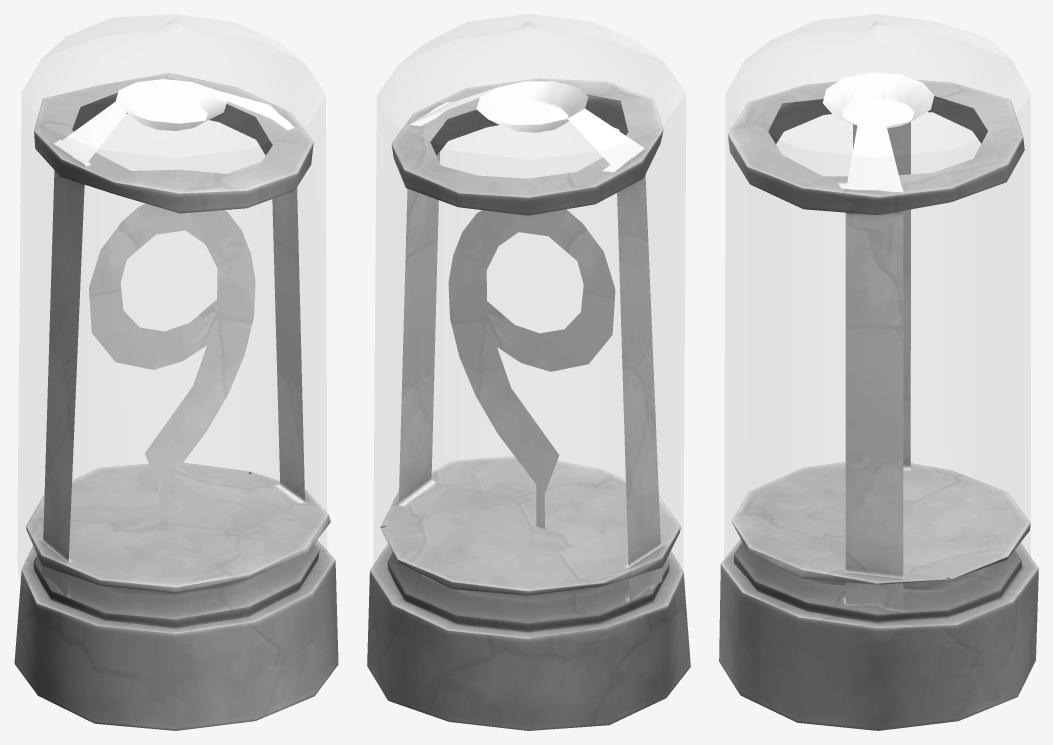
File: obj_num09_alt.gltf
The picture shows the model from 3 angles, left to right: view 1: azimuth 30°, elevation 25°; view 2: azimuth 150°, elevation 25°; view 3: azimuth 270°, elevation 25°; orthographic projection.
Parts seen in each view (by area): view 1: obj_num09_alt, obj_num09_glass; view 2: obj_num09_alt, obj_num09_glass; view 3: obj_num09_alt, obj_num09_glass.
Boxes of the visible parts, bbox=[...] form: obj_num09_alt: bbox=[14, 73, 338, 730]; obj_num09_glass: bbox=[17, 14, 326, 580]; obj_num09_alt: bbox=[367, 78, 690, 730]; obj_num09_glass: bbox=[374, 14, 685, 569]; obj_num09_alt: bbox=[719, 72, 1038, 730]; obj_num09_glass: bbox=[724, 14, 1030, 566].
Size of what is drawn, in the model's own units: 0.3248 by 0.716 by 0.3233.
2 materials, 1 textured.
